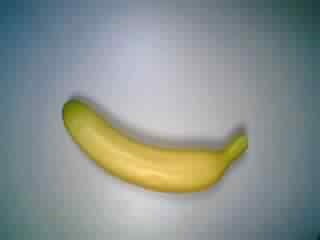banana: (52, 92, 251, 203)
